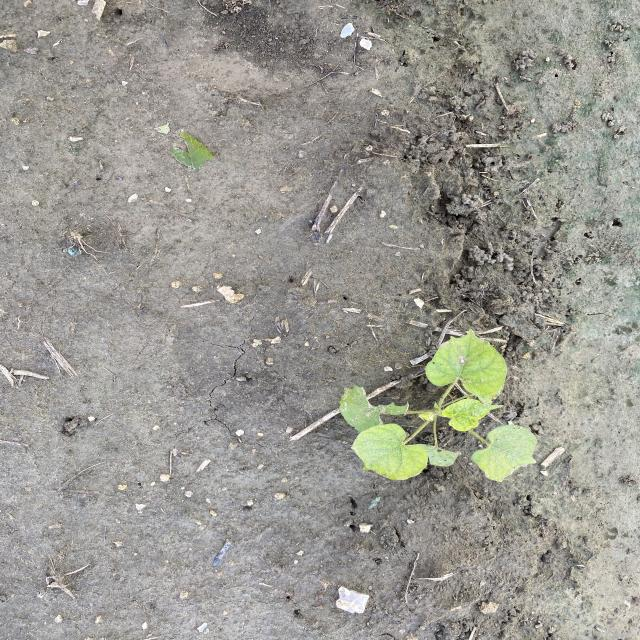MorningGlory: (337, 328, 541, 486)
